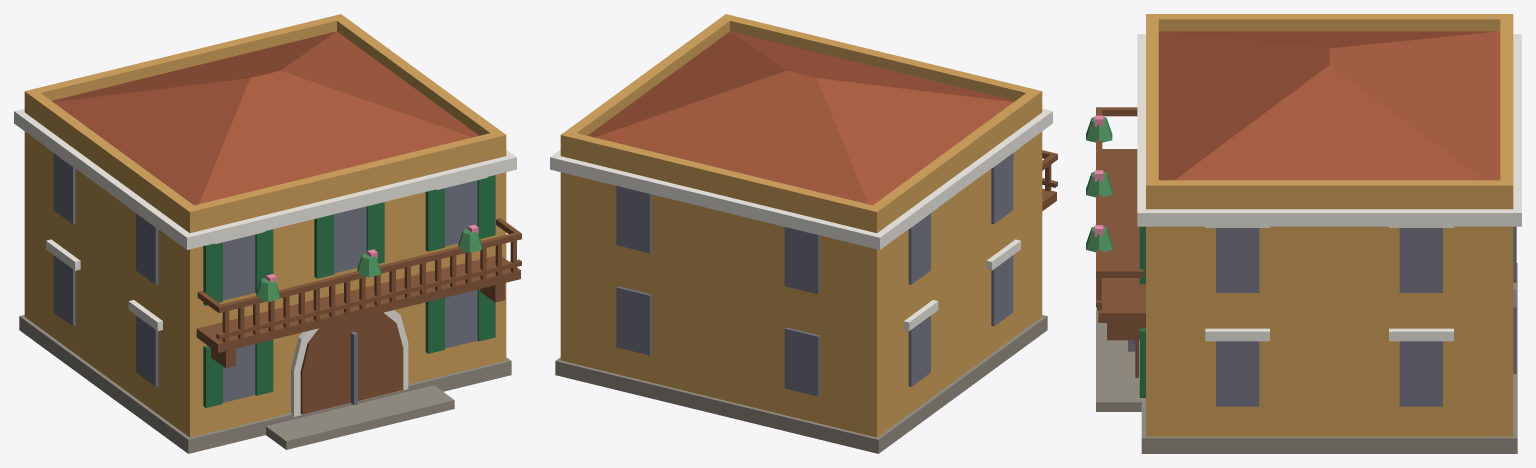
File: house-1x1-2f-colonial-a.glb
3 views of the same model, side by side, from view 1: azimuth 30°, elevation 25°; view 2: azimuth 150°, elevation 25°; view 3: azimuth 270°, elevation 25° (orthographic). The views are drawn at different scales.
Parts seen in each view (by area): view 1: house-1x1-2f-colonial-a; view 2: house-1x1-2f-colonial-a; view 3: house-1x1-2f-colonial-a.
Boxes of the visible parts, x1,y1,x2,y2 form: house-1x1-2f-colonial-a: (14, 14, 521, 453); house-1x1-2f-colonial-a: (550, 14, 1057, 453); house-1x1-2f-colonial-a: (1086, 14, 1521, 453).
Bounding box in the file's own units: 0.98 × 0.79 × 1.01.
Materials: 1 (1 with a texture image).
